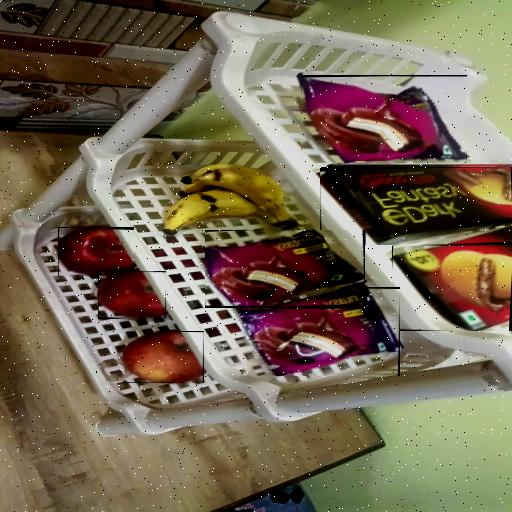Apple: (123, 331, 204, 383), (58, 227, 134, 276), (98, 272, 166, 320)
Choco Fills: (320, 167, 512, 245), (392, 229, 512, 331)
Choco Pie: (300, 75, 466, 161), (242, 287, 400, 376), (205, 230, 364, 306)
